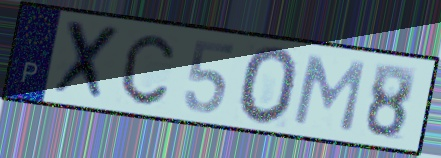5: (181, 38, 238, 115)
8: (362, 62, 416, 141)
C: (119, 32, 177, 107)
M: (289, 53, 369, 136)
O: (236, 44, 301, 128)
X: (47, 17, 124, 106)
